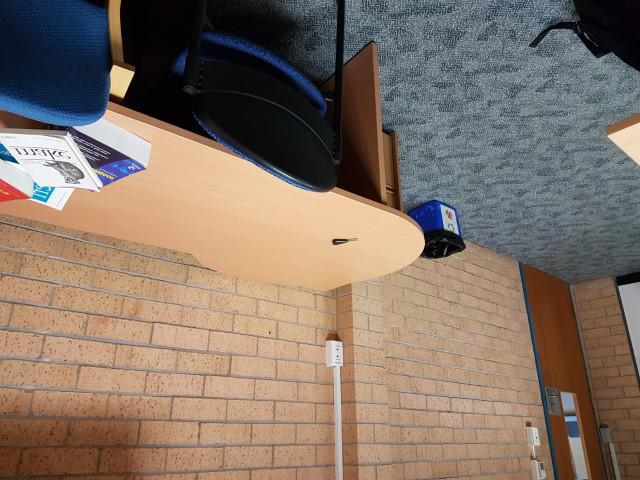key: (332, 236, 358, 245)
